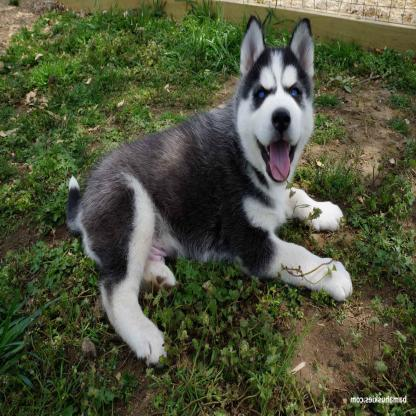dog: (64, 17, 353, 358)
